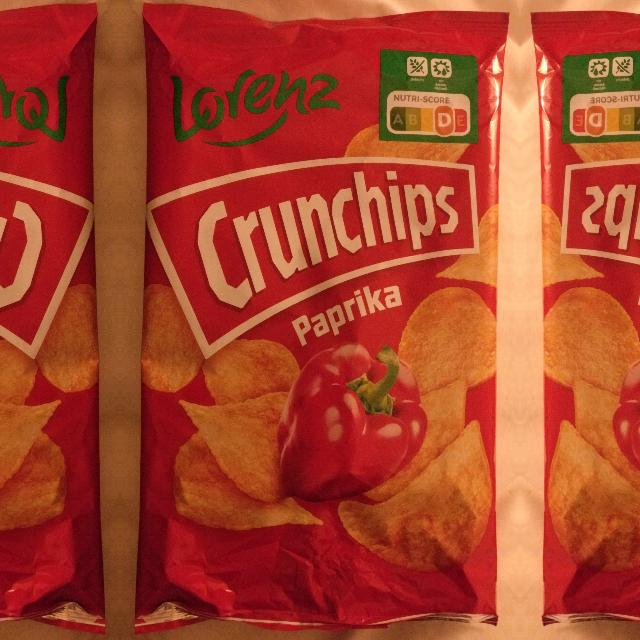crunchips: (144, 157, 482, 359), (1, 173, 96, 359)
